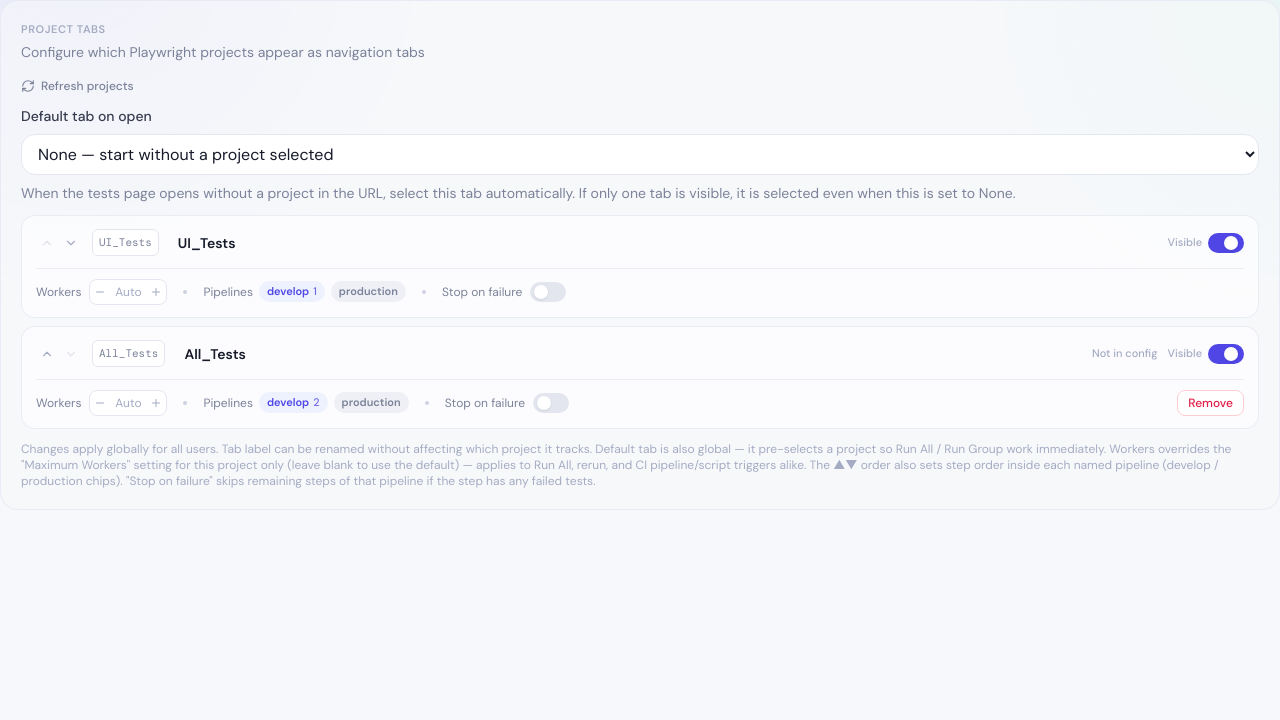
it: SettingsProjectTabsSection - removing stale tabs › needs a second click: Remove -> Confirm remove / Cancel, nothing saved before confirming
What coordinates should you click on to do the following:
click the button with aria-label "Remove stale tab All_Tests"
I would click on:
 (1211, 402)
Its box is [1177,390,1244,416].
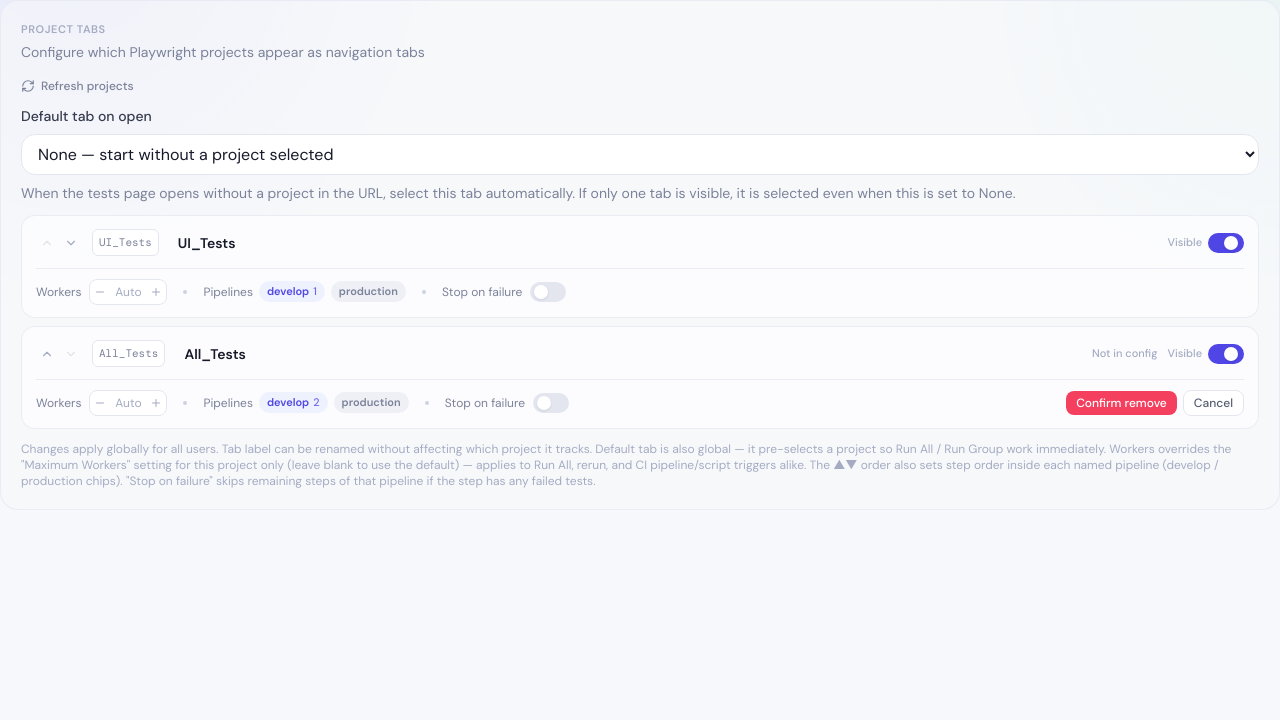
Expected: the button with aria-label "Confirm remove All_Tests" is shown, [1066,390,1177,414]
Expected: the button with aria-label "Cancel remove All_Tests" is shown, [1183,390,1244,416]
